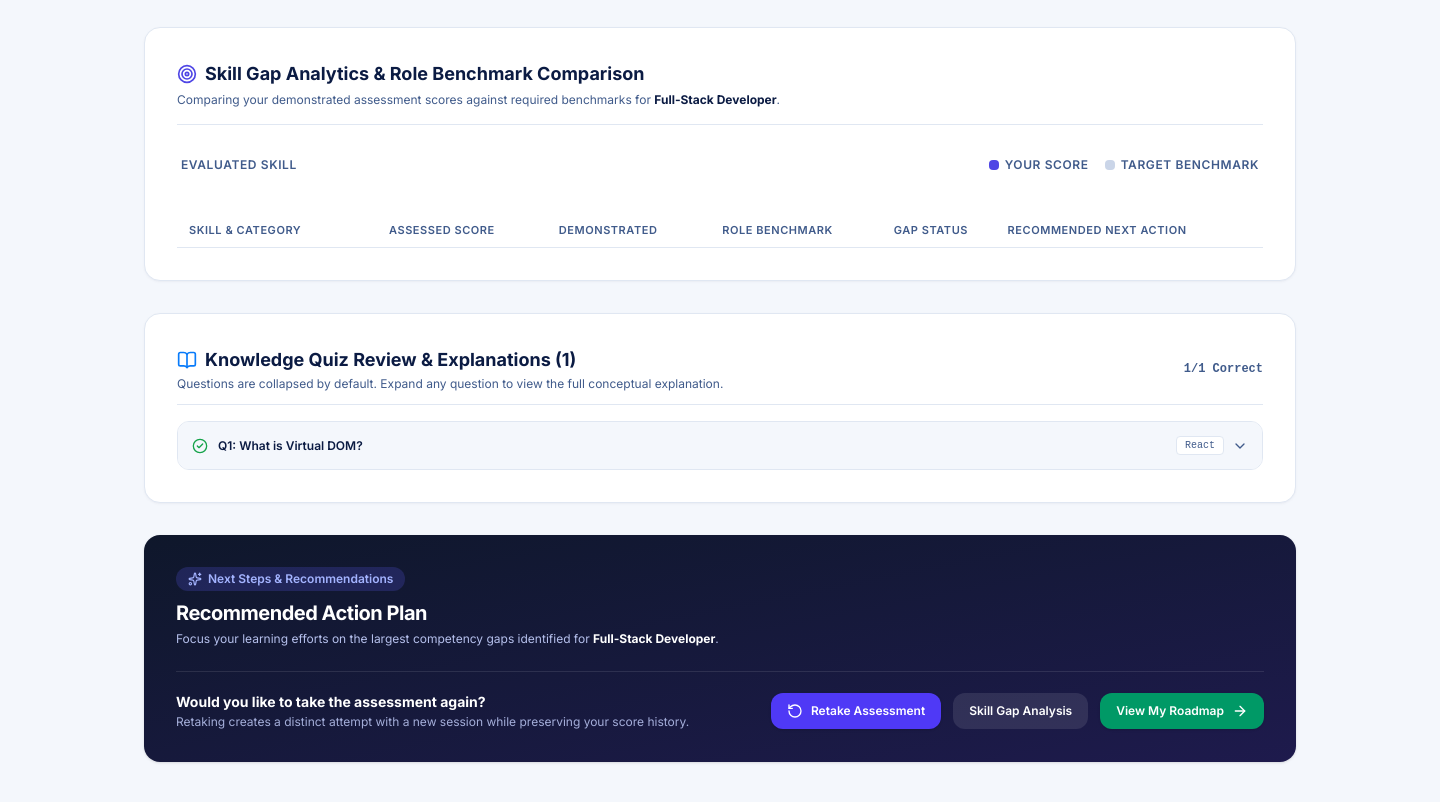
Redesigned ResultsReport Component Suite › 5. Question details are collapsed by default and expand on click
This screenshot has width=1440, height=802.
(page scrolled)
Expected: the text "Lightweight in-memory representation of real DOM." is not shown
// Click to expand
Click the text "Q1: What is Virtual DOM?" at [290, 446], box 218,438 -> 363,454
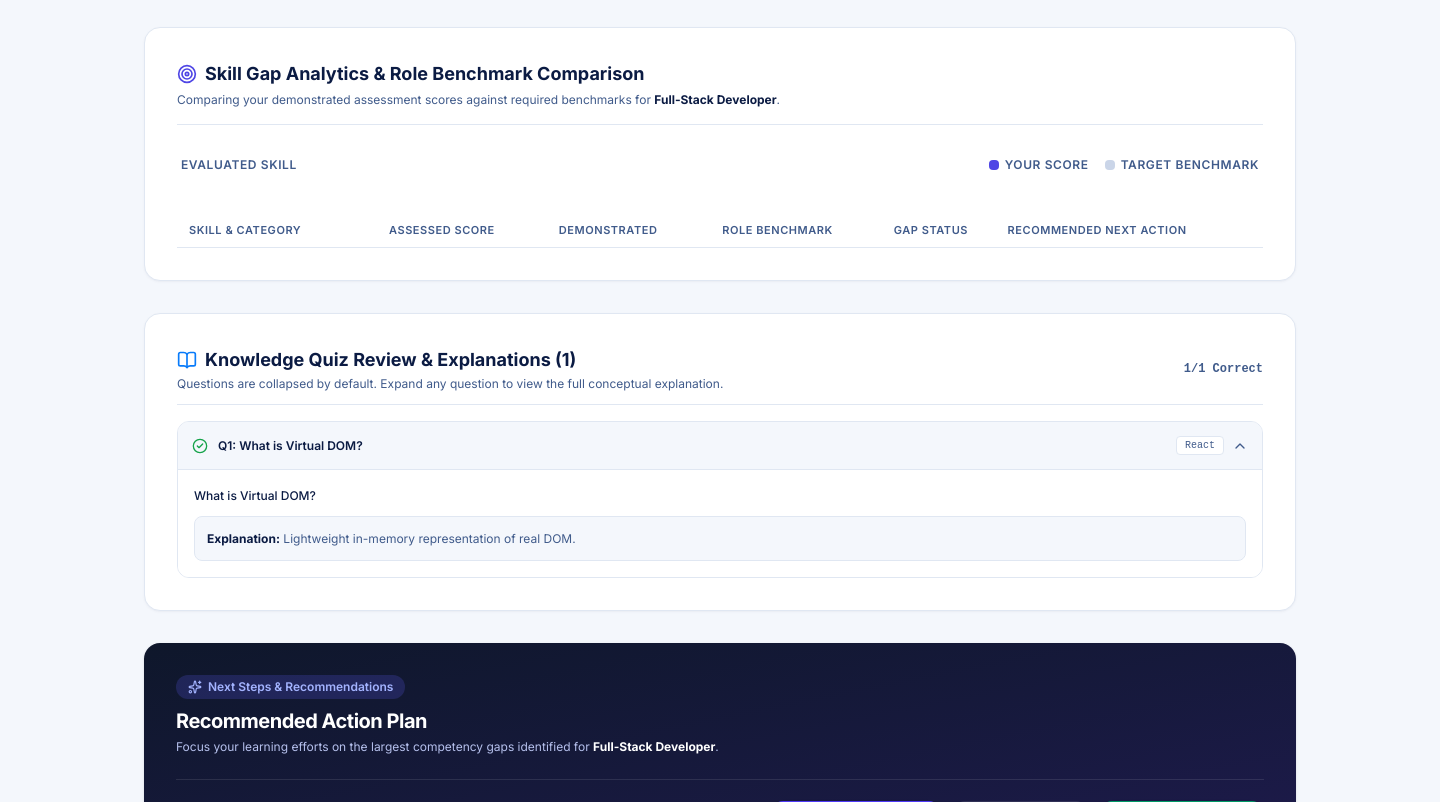
Now the text "Lightweight in-memory representation of real DOM." is shown, box 283,531 -> 576,546
